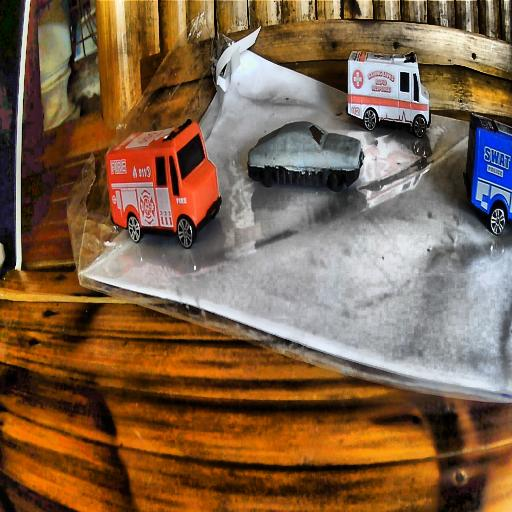ambulance: (347, 48, 431, 138)
fire_truck: (108, 114, 224, 250)
normal_car: (247, 120, 364, 194)
police car: (464, 112, 511, 237)
